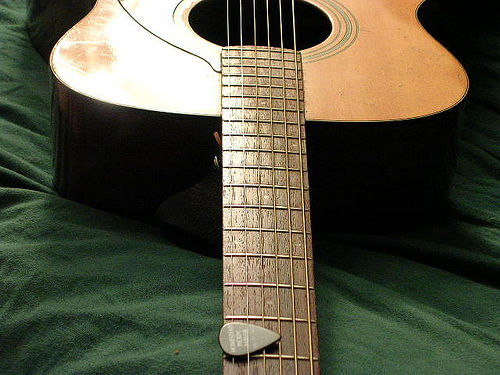guitar: (26, 1, 474, 373)
